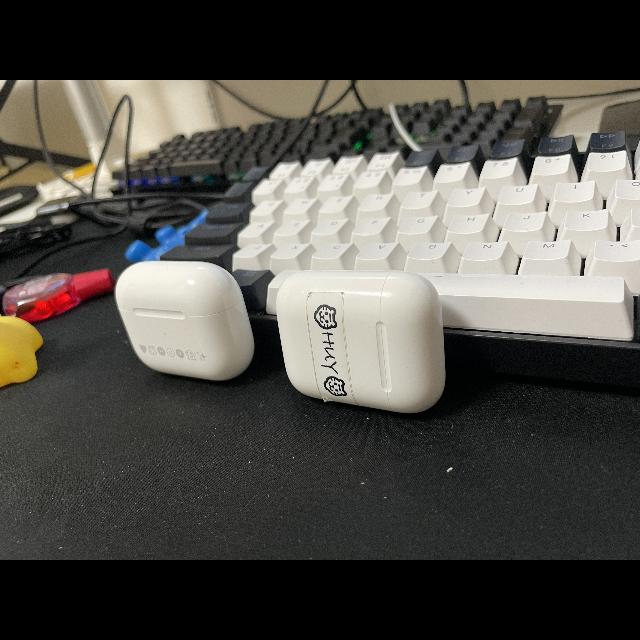airpod2: (274, 262, 453, 413)
airpod3: (112, 255, 260, 390)
